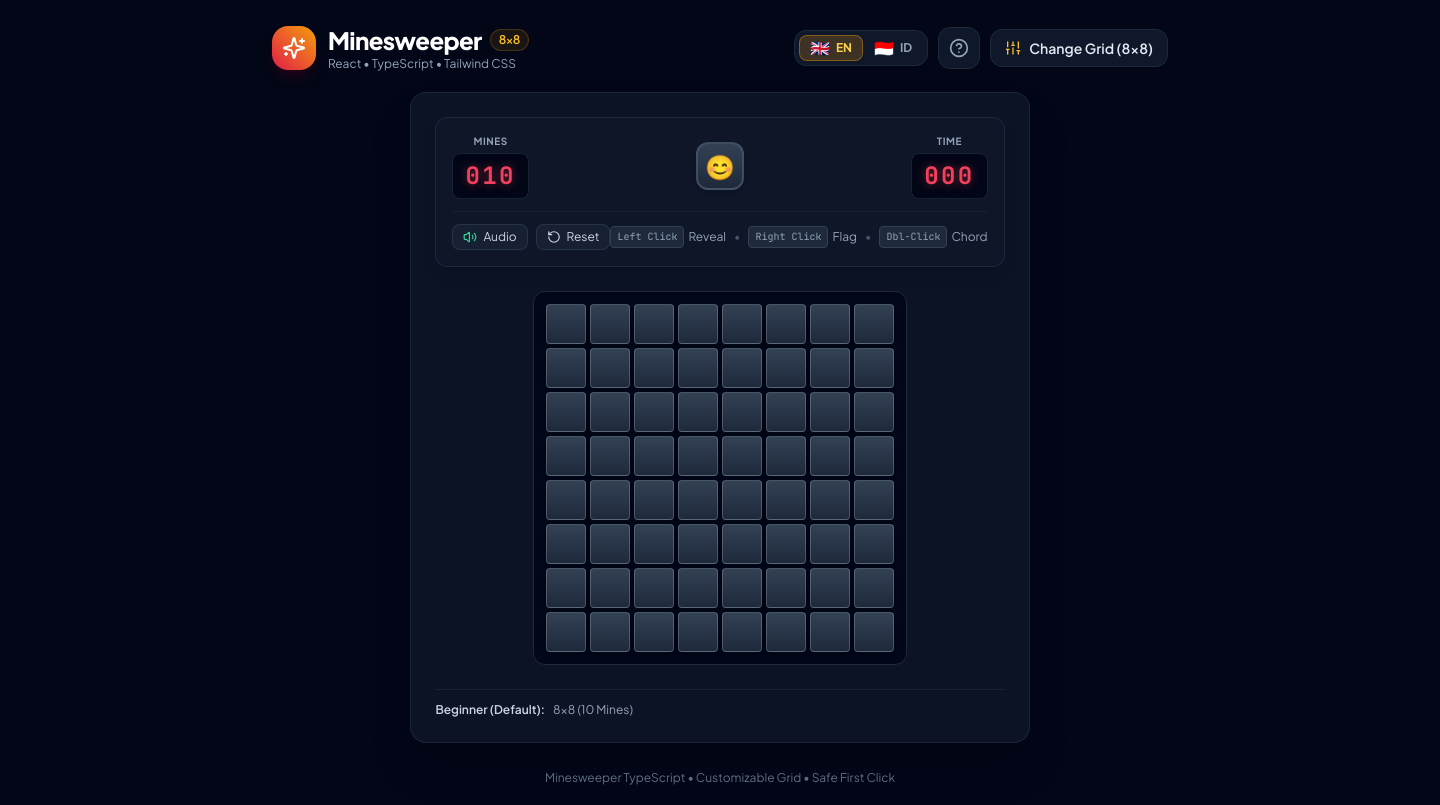
Scenario: App component (Integration) › opens Grid settings modal and changes configuration
Open settings modal
Click the button "Change Grid (8×8)": (1079, 48) [990,29,1168,67]
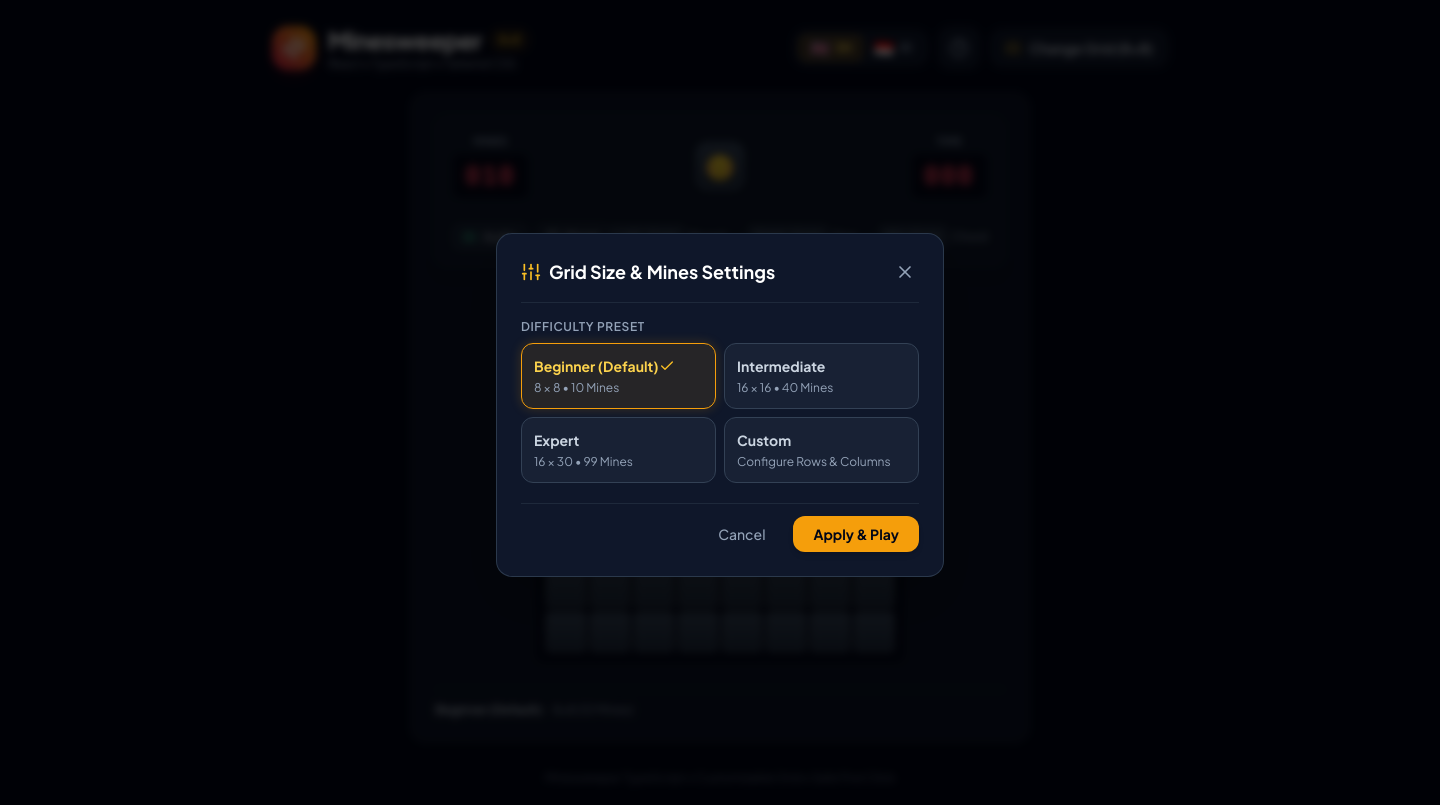
Check: the heading "Grid Size & Mines Settings" is shown, box [549,258,775,286]
Choose Intermediate (16x16)
Click the button "Intermediate 16 × 16 • 40 Mines": (822, 376) [724,343,919,409]
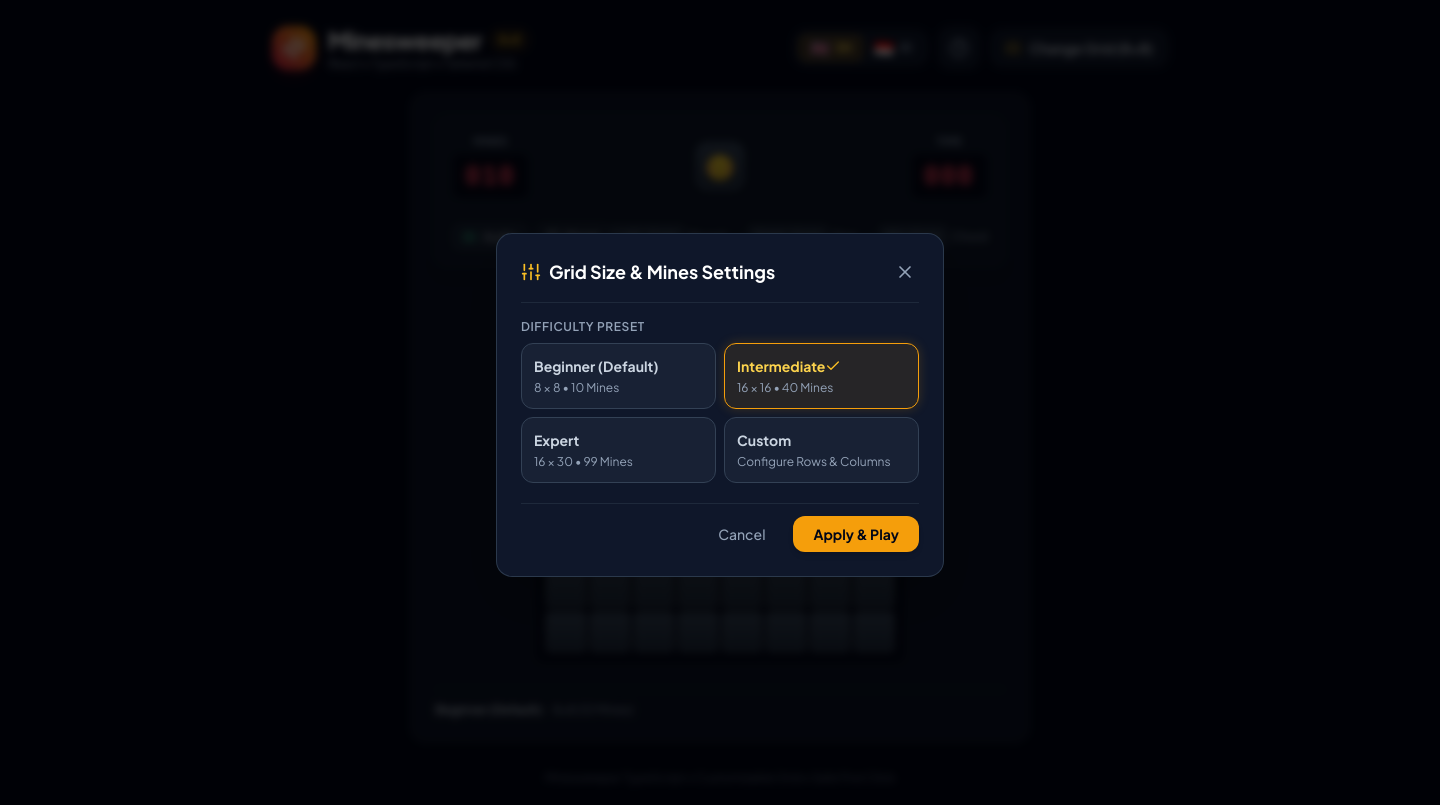
Click apply
Click the button "Apply & Play": (856, 534) [794,516,919,552]
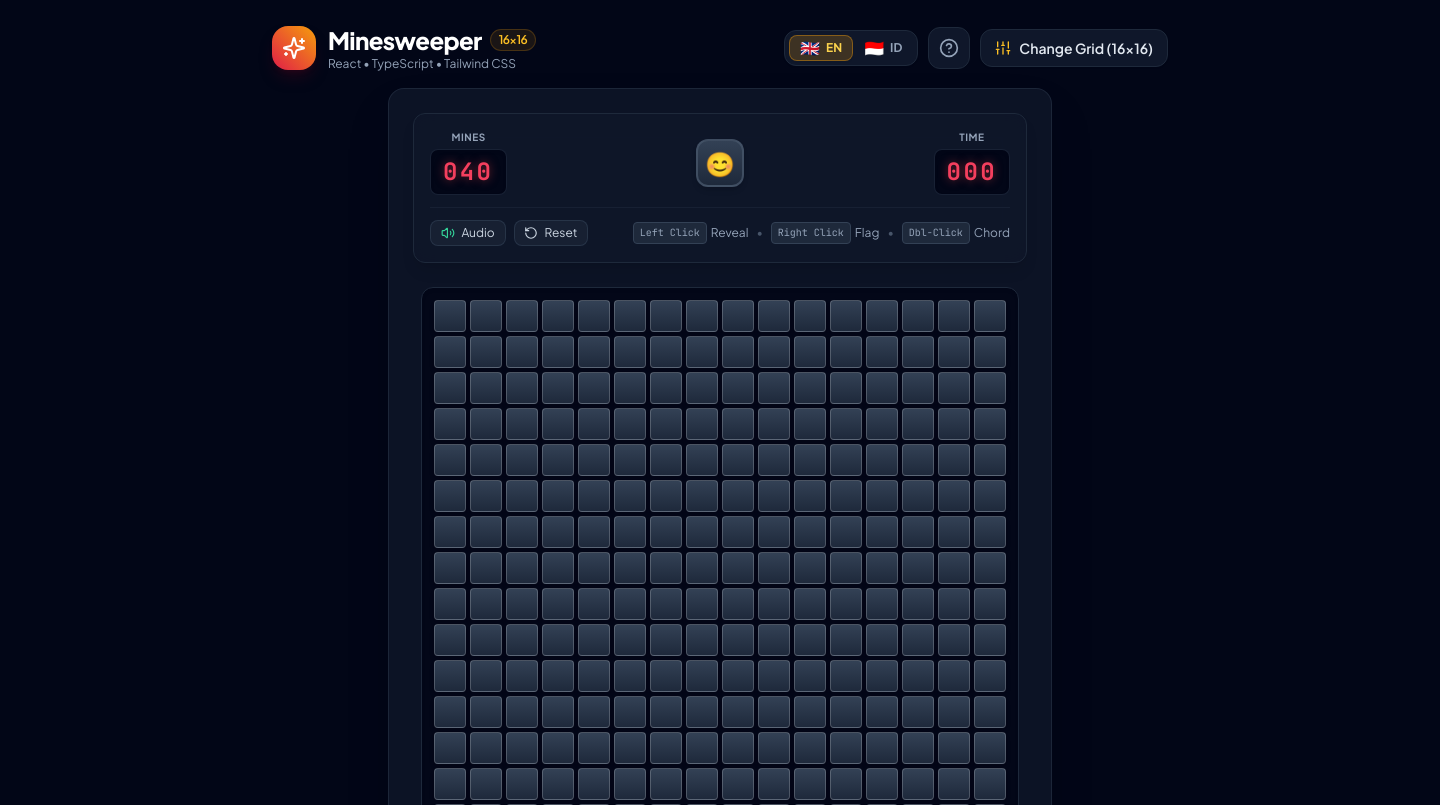
Check: the number of buttons named "Row 1, Column 1, Unrevealed" is 256
Check: the text "040" is shown, box [443,156,493,188]
